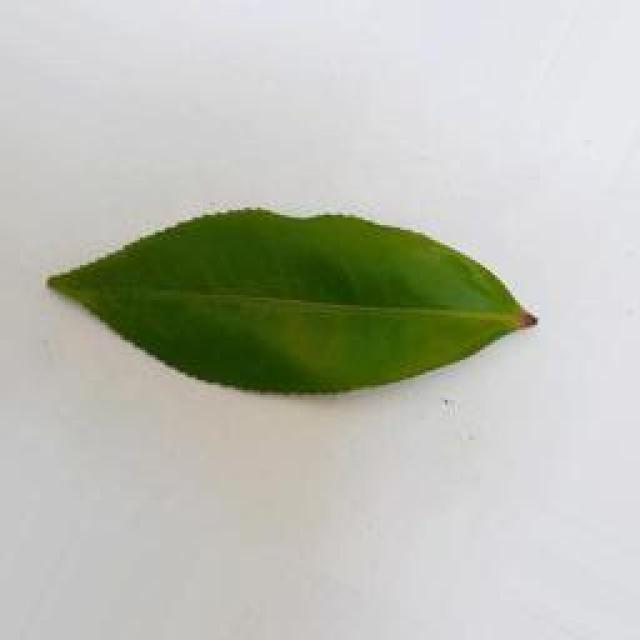Healthy: (36, 193, 536, 397)
